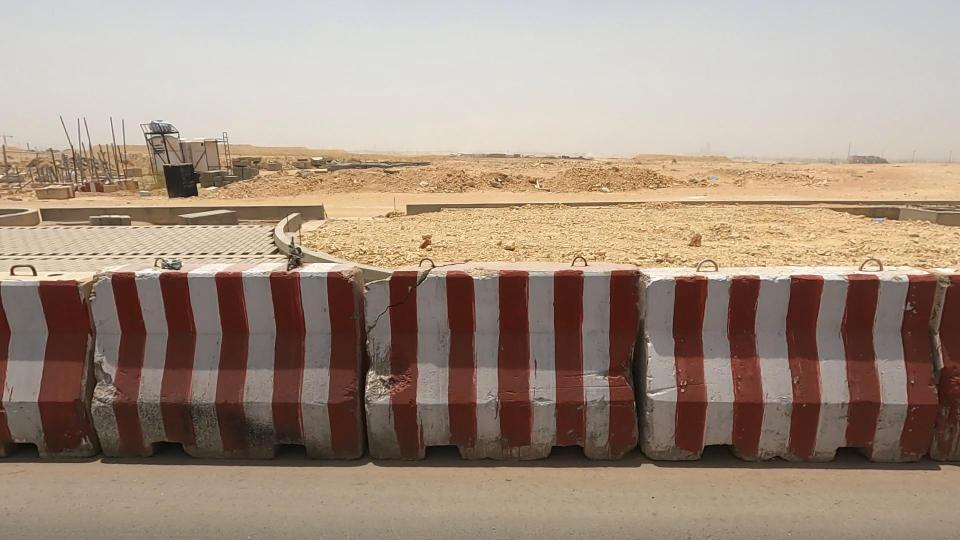CONSTRUCTION_ROAD: (192, 156, 960, 510), (0, 155, 426, 501)
SAND_ON_ROAD: (360, 119, 560, 240), (503, 127, 711, 220)
